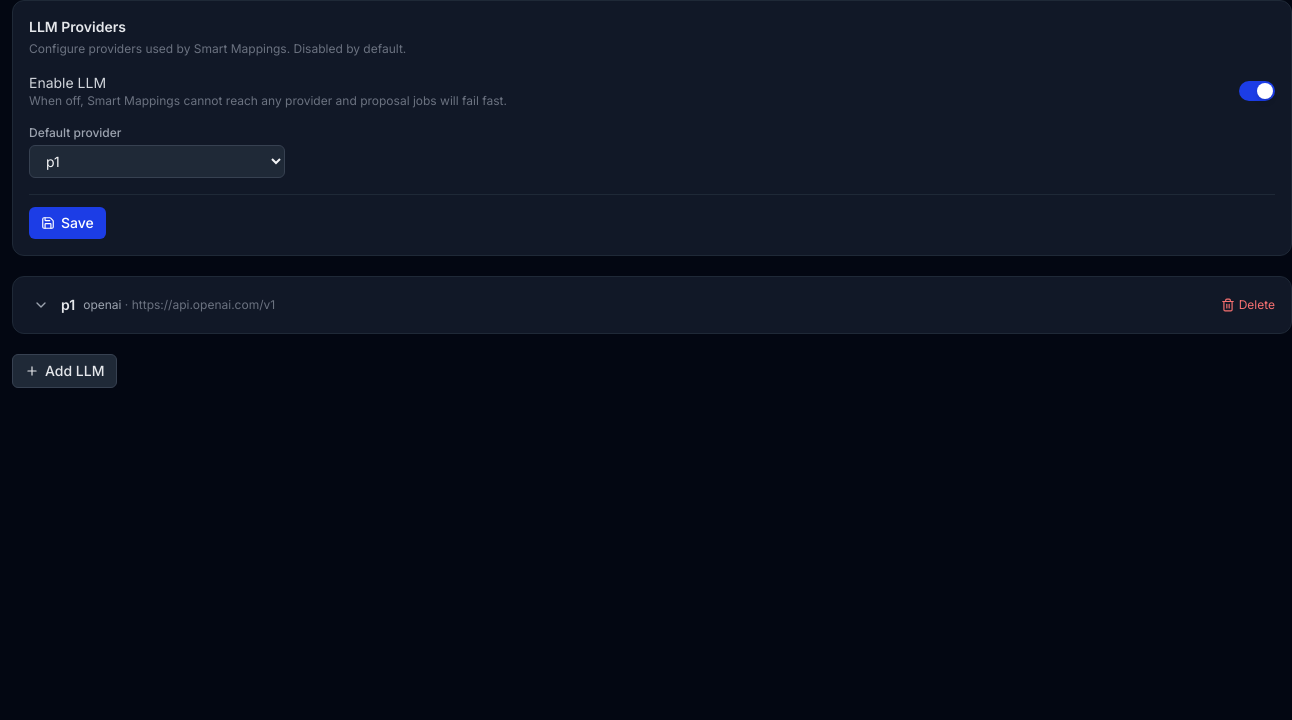
it: LLMProvidersTab › Test connection success renders the Model OK pill (027 step 5: probes via testProviderDraft)
Click the button named "Expand p1" at coordinates (41, 305), box [29,293,53,317]
(page scrolled)
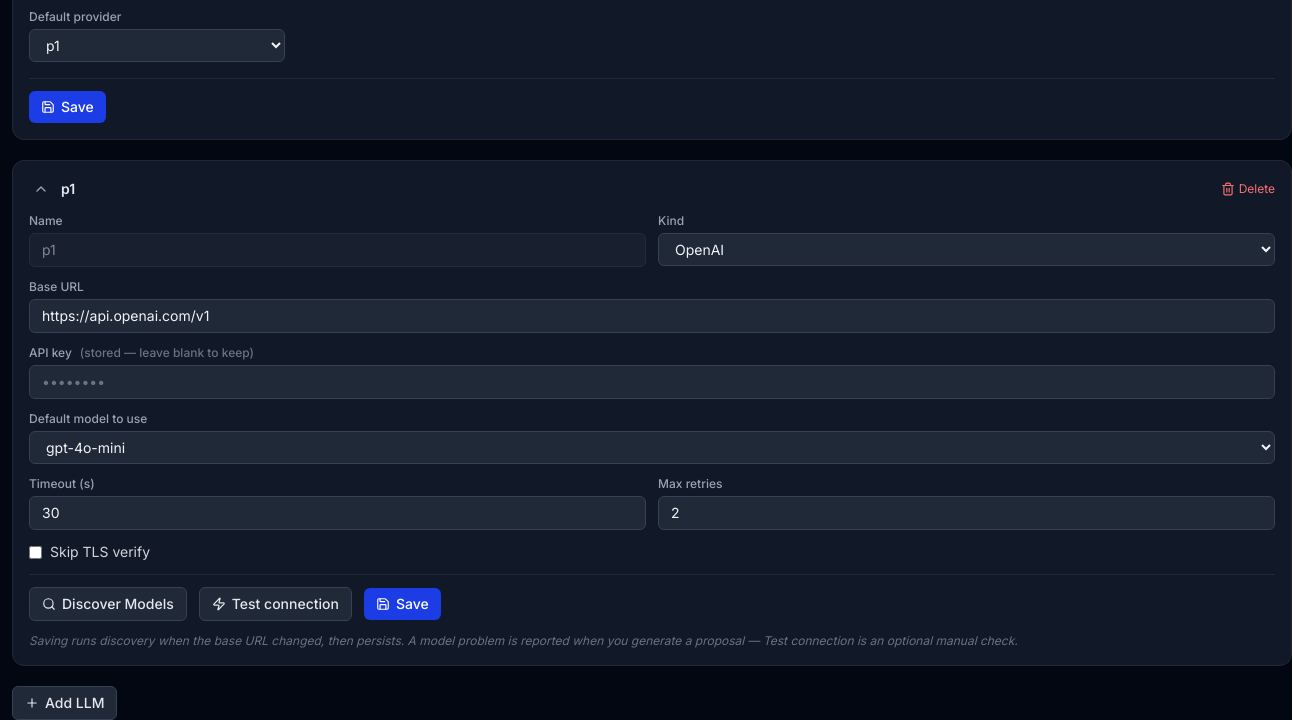
Click the button "Test connection" at coordinates (275, 604), box [199,587,352,621]
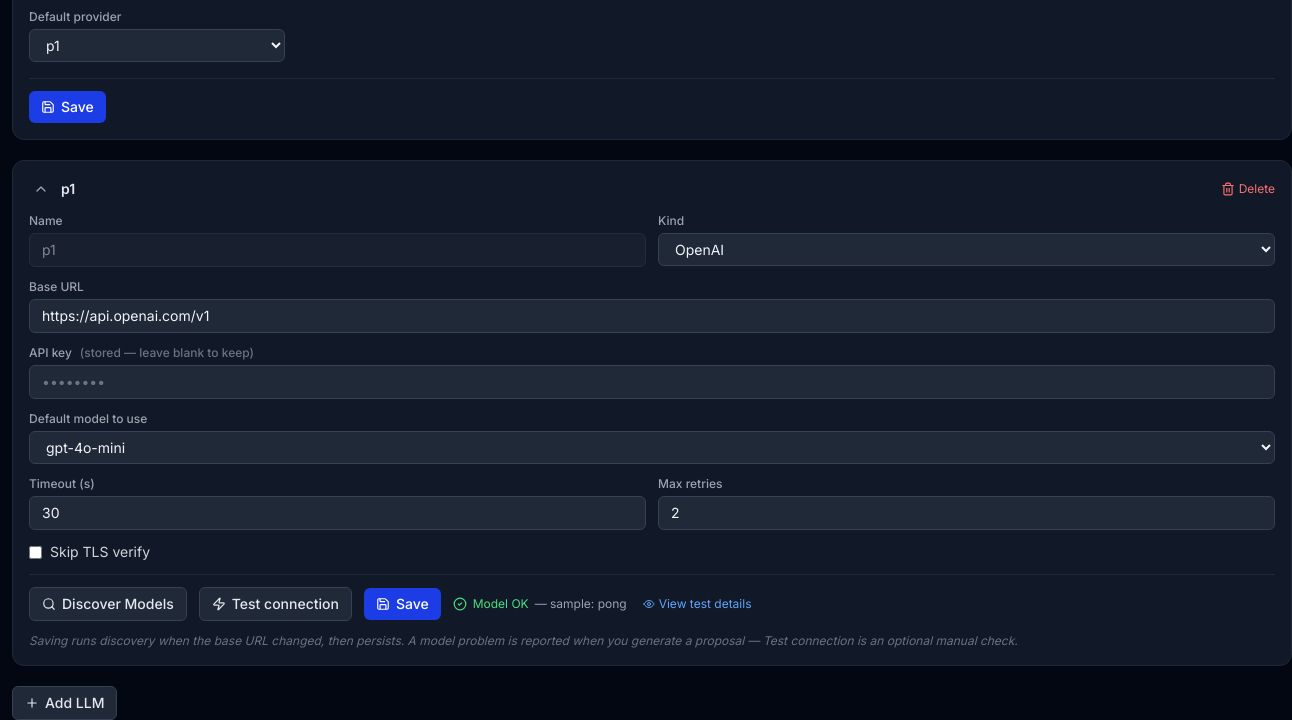
Check: the element with test id "card-probe-ok" is shown, box [453,596,627,612]
